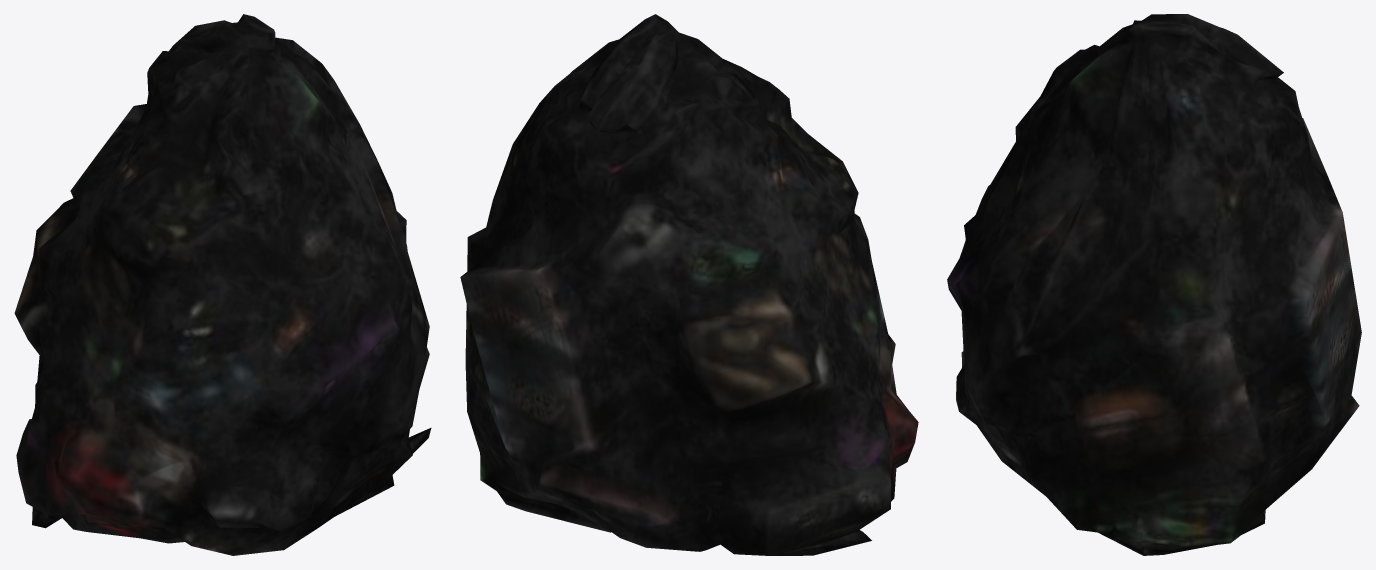
File: trashbag.glb
The picture shows the model from 3 angles, left to right: view 1: azimuth 30°, elevation 25°; view 2: azimuth 150°, elevation 25°; view 3: azimuth 270°, elevation 25°; orthographic projection. The views are drawn at different scales.
Parts seen in each view (by area): view 1: trashbag; view 2: trashbag; view 3: trashbag.
Boxes of the visible parts, <box> form: trashbag: <box>14,14,431,555</box>; trashbag: <box>460,14,918,555</box>; trashbag: <box>947,14,1361,555</box>.
Bounding box in the file's own units: 0.5281 × 0.5684 × 0.4629.
Materials: 1 (1 with a texture image).
